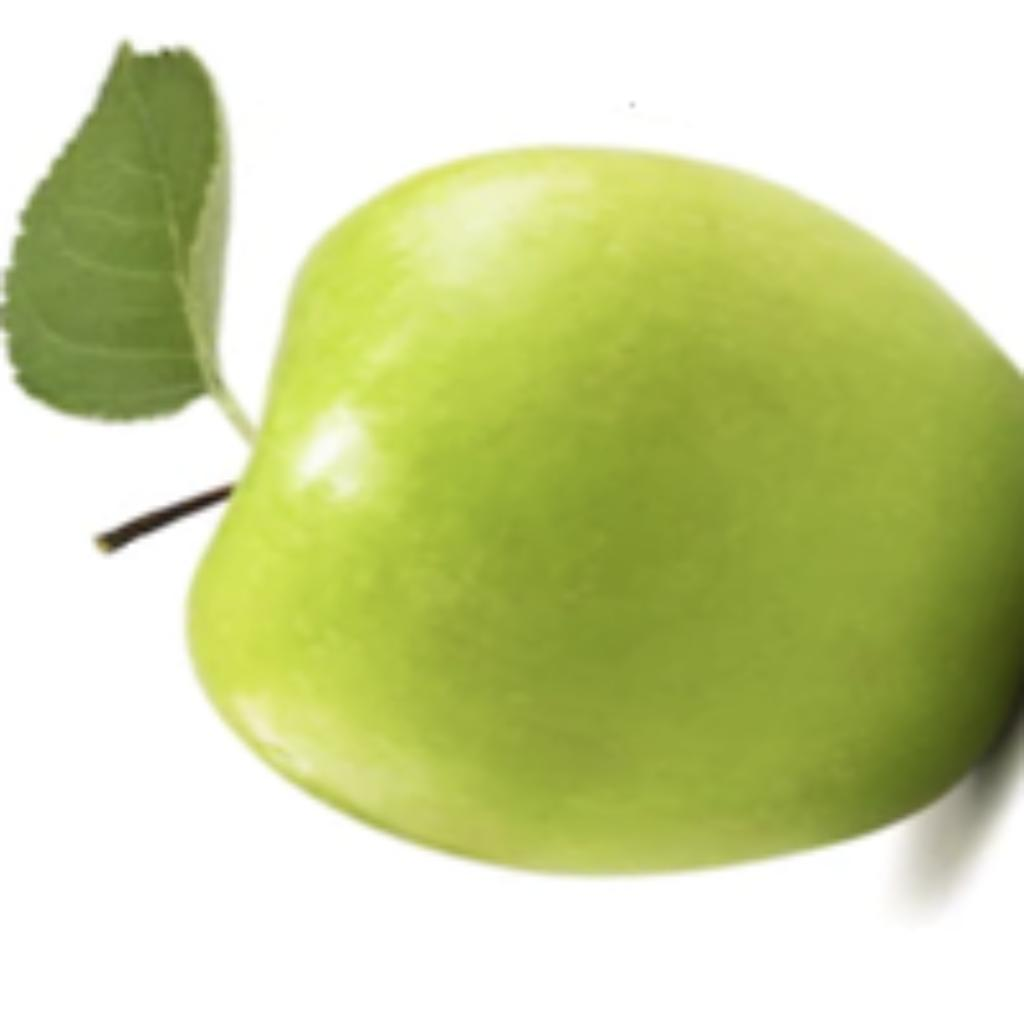apple: (0, 31, 1019, 927)
